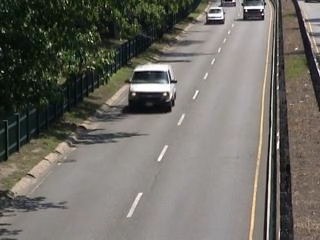car: (204, 7, 227, 26)
truck: (125, 63, 179, 117), (240, 1, 268, 22)
